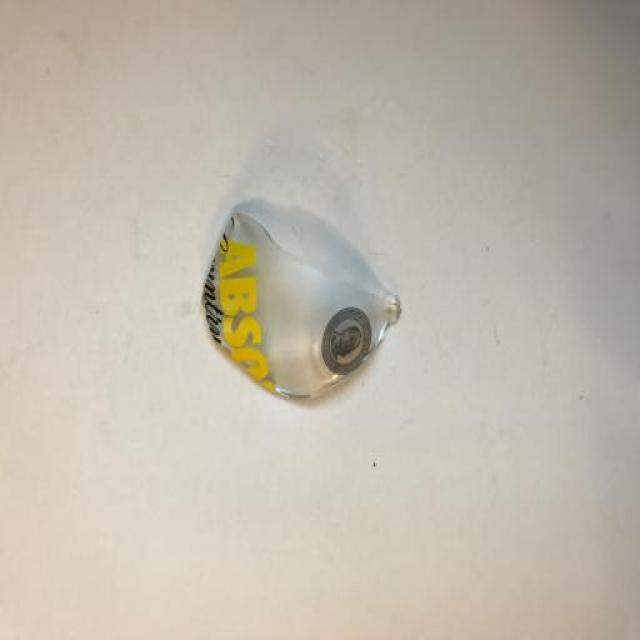glass: (171, 171, 423, 446)
